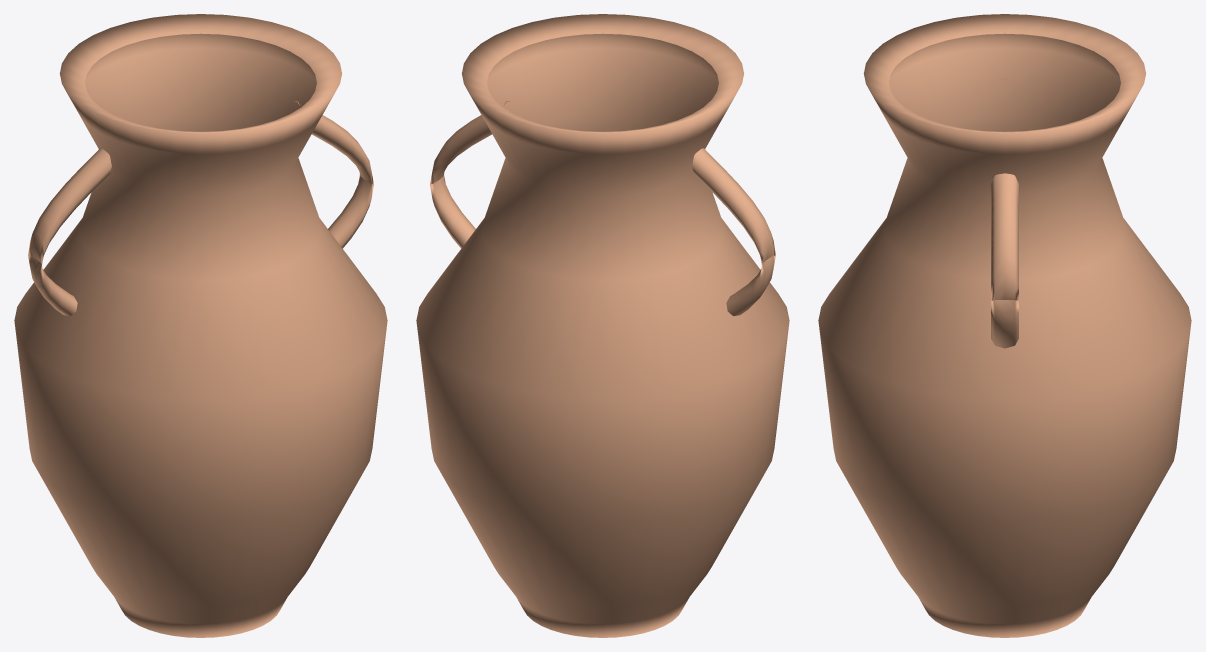
The model's file is prop_vase.glb.
3 renders of one model, left to right at view 1: azimuth 30°, elevation 25°; view 2: azimuth 150°, elevation 25°; view 3: azimuth 270°, elevation 25°, orthographic.
Visible parts, largest first — view 1: AmphoraUrn, AmphoraHandle, AmphoraHandle.001; view 2: AmphoraUrn, AmphoraHandle, AmphoraHandle.001; view 3: AmphoraUrn, AmphoraHandle.001.
Part boxes in pixels (x1,y1,x2,y2): AmphoraUrn: (14, 14, 387, 637); AmphoraHandle: (28, 148, 111, 316); AmphoraHandle.001: (294, 101, 373, 248); AmphoraUrn: (416, 14, 789, 637); AmphoraHandle: (692, 148, 775, 316); AmphoraHandle.001: (430, 101, 509, 248); AmphoraUrn: (818, 14, 1191, 637); AmphoraHandle.001: (991, 173, 1018, 348).
Bounding box in the file's own units: 0.38 × 0.58 × 0.37.
